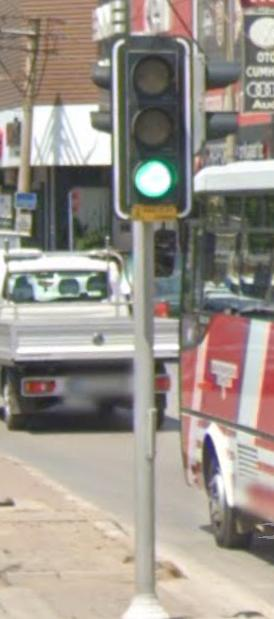greenlight: (110, 33, 194, 220)
